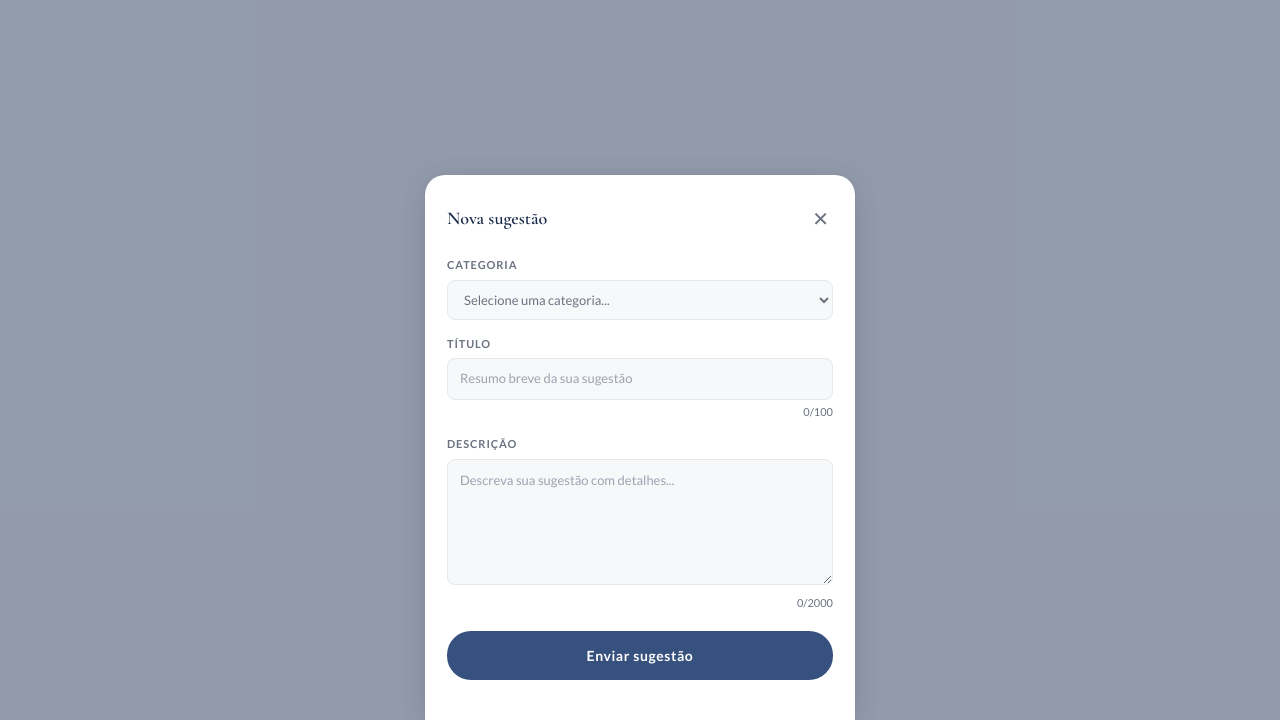
it: NewFeedbackModal › updates counter when typing in content
This screenshot has width=1280, height=720.
In the text box with test id "feedback-content-textarea": (640, 522) [447,458,833,584], type "Hello world"
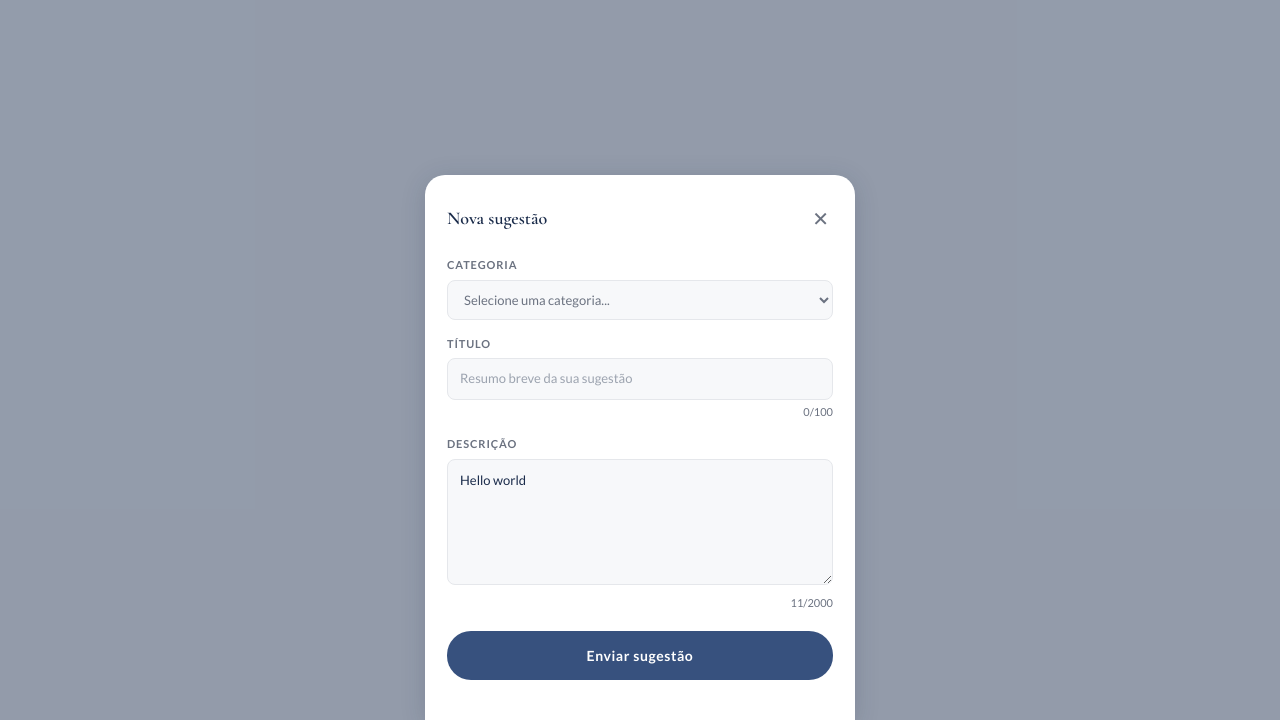
expect the text "11/2000" is shown: met, box [791,594,833,611]
